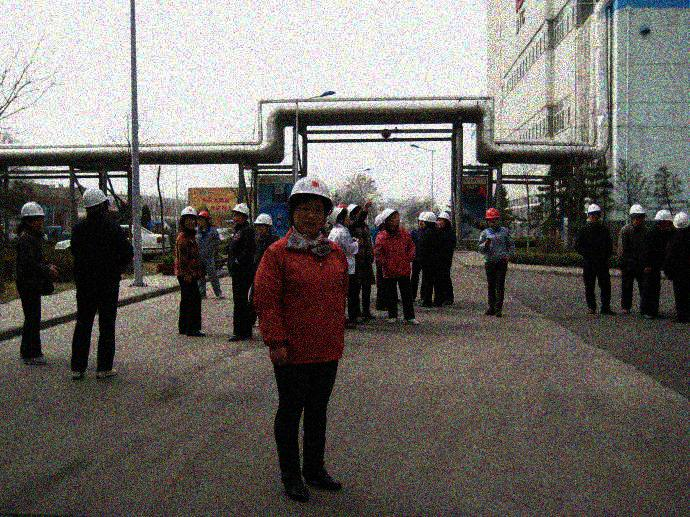helmet: (287, 173, 331, 233), (80, 185, 110, 219), (18, 201, 46, 231), (326, 204, 351, 227), (253, 213, 274, 238), (230, 202, 250, 228), (178, 204, 197, 231), (628, 203, 647, 227), (344, 201, 366, 221), (654, 208, 673, 231), (484, 206, 500, 232), (382, 208, 402, 228), (672, 212, 690, 234), (196, 209, 212, 231), (586, 203, 602, 223), (436, 211, 452, 229), (422, 212, 437, 230)
